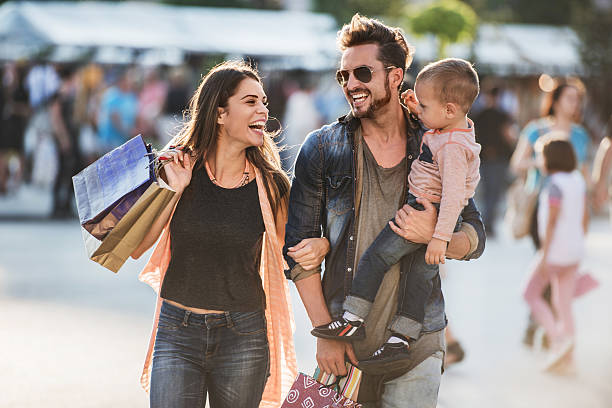without mask: (217, 73, 279, 156), (333, 40, 395, 123), (413, 69, 476, 142), (550, 75, 582, 122)
